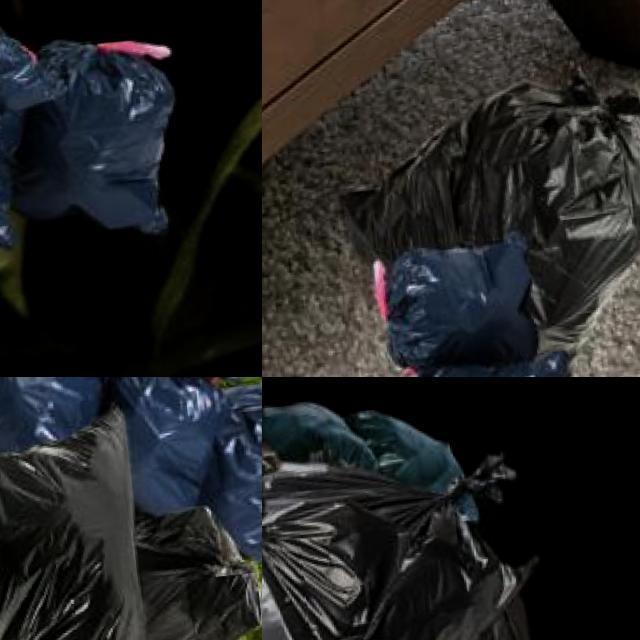waste: (340, 73, 640, 356), (262, 431, 557, 640), (262, 474, 556, 640), (11, 25, 177, 244), (0, 415, 156, 640), (77, 498, 262, 640), (384, 227, 543, 376), (97, 377, 228, 527), (211, 377, 262, 567), (0, 377, 99, 459)
